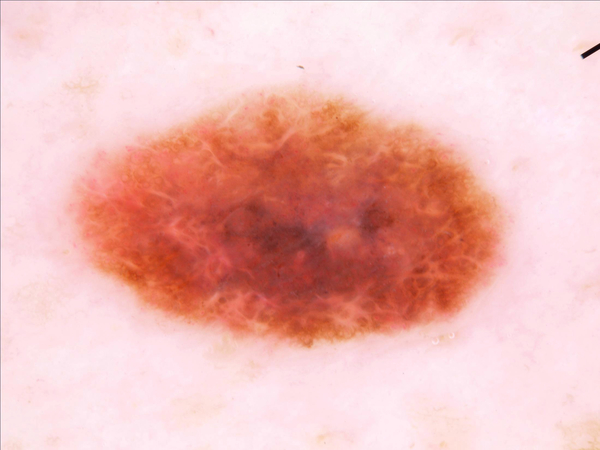Detected Lesion: (67, 94, 521, 351)
